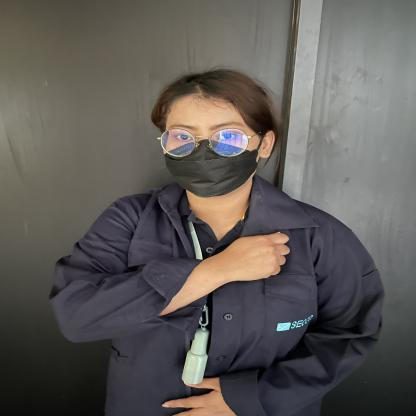Sadness: (36, 220, 333, 346)
